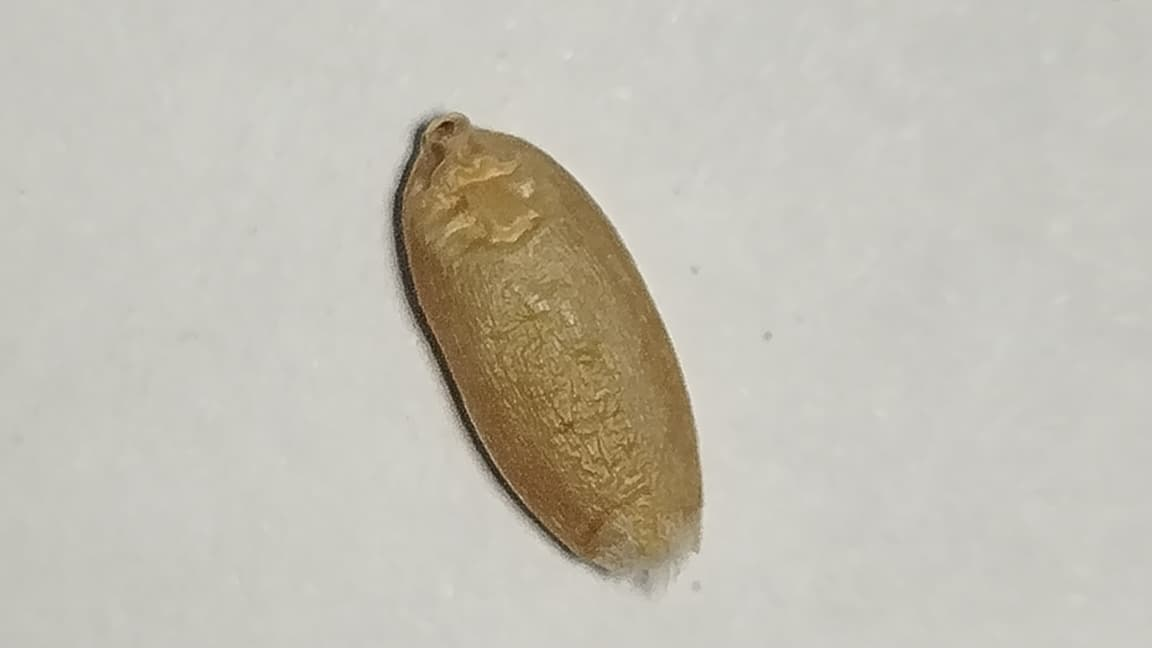healthy: (402, 113, 702, 571)
